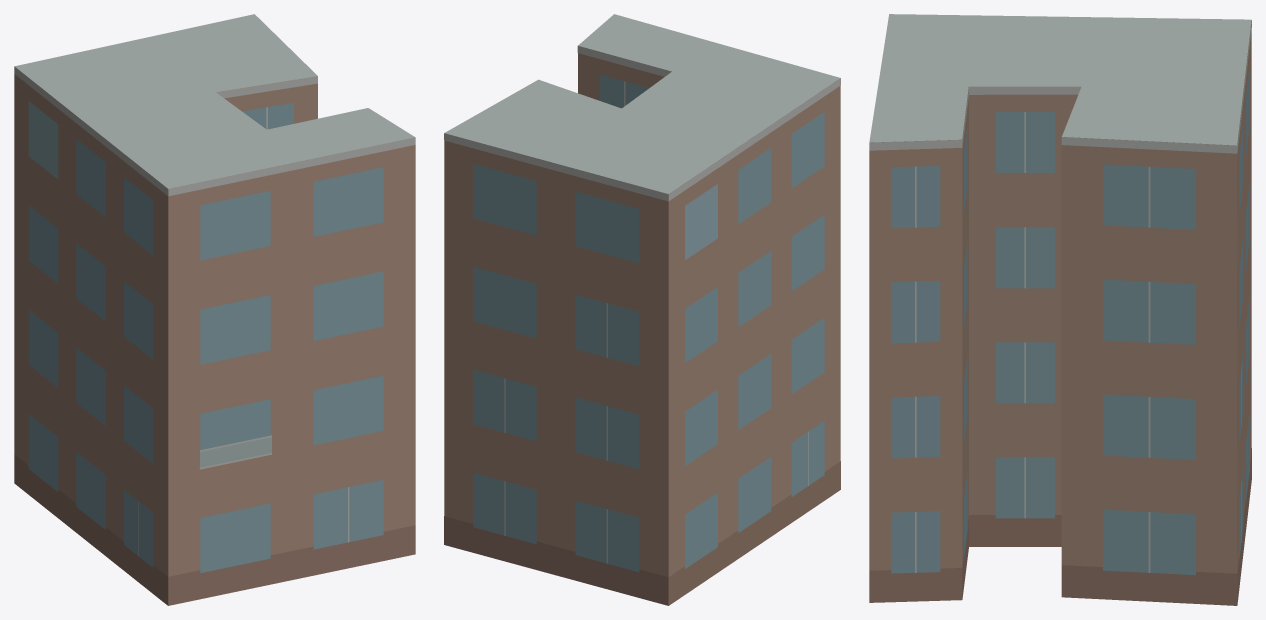
The model's file is survey-upis-33023038.glb.
The picture shows the model from 3 angles, left to right: view 1: azimuth 30°, elevation 25°; view 2: azimuth 150°, elevation 25°; view 3: azimuth 270°, elevation 25°; orthographic projection. The views are drawn at different scales.
Visible parts, largest first — view 1: survey-upis-33023038.tmp; view 2: survey-upis-33023038.tmp; view 3: survey-upis-33023038.tmp.
Boxes of the visible parts, x1,y1,x2,y2 form: survey-upis-33023038.tmp: (14,14,415,605); survey-upis-33023038.tmp: (444,14,840,605); survey-upis-33023038.tmp: (869,14,1251,605).
Size of the model in its own units: 8.4 by 13.7 by 10.32.
